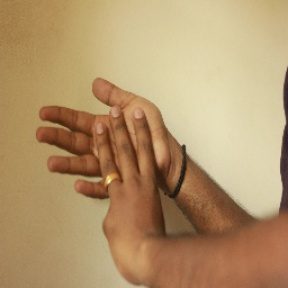M: (35, 73, 182, 231)
